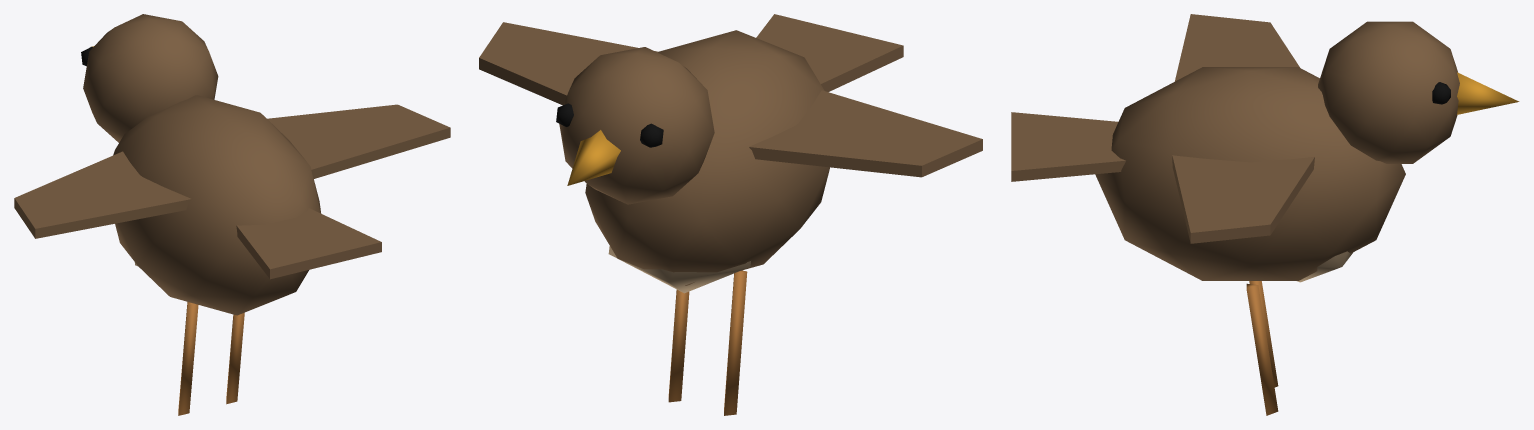
Rendered from bird.glb.
The picture shows the model from 3 angles, left to right: view 1: azimuth 30°, elevation 25°; view 2: azimuth 150°, elevation 25°; view 3: azimuth 270°, elevation 25°; orthographic projection. The views are drawn at different scales.
Parts seen in each view (by area): view 1: bird_v0; view 2: bird_v0; view 3: bird_v0.
Part boxes in pixels (<box>): bird_v0: <box>14,14,450,415</box>; bird_v0: <box>479,14,982,415</box>; bird_v0: <box>1011,14,1519,415</box>.
Bounding box in the file's own units: 0.52 × 0.4156 × 0.51.
